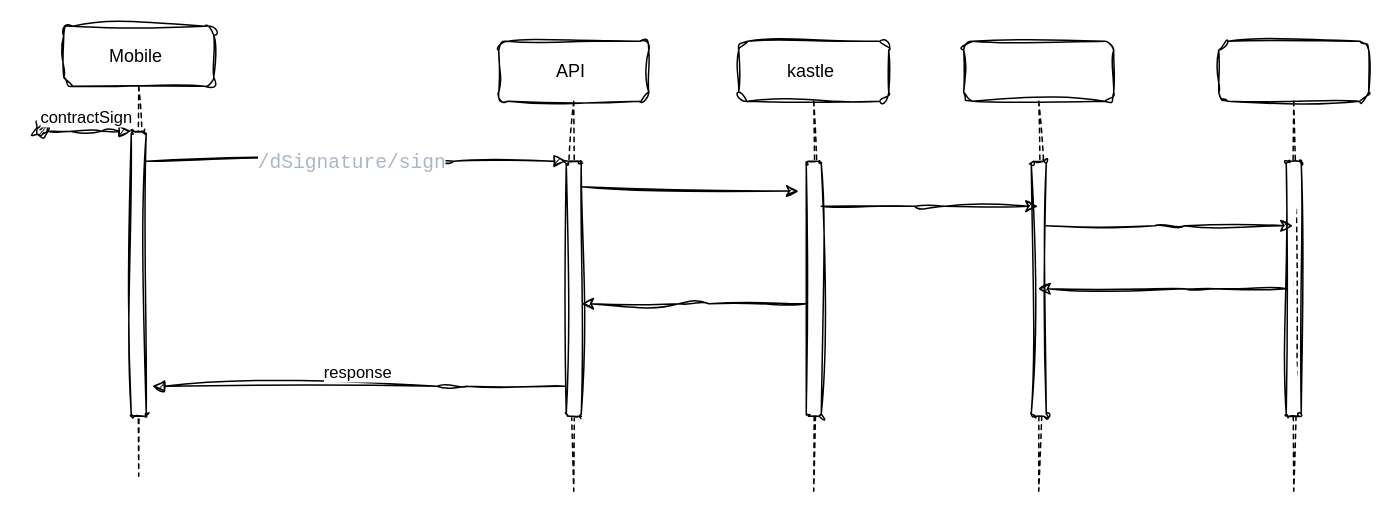
Some shapes in this 1395 by 518 pixel diagram are drawn without their labels. Each missing label, with the box of its shape:
broker: (962, 40, 1114, 491)
imdaa: (1217, 40, 1369, 491)
